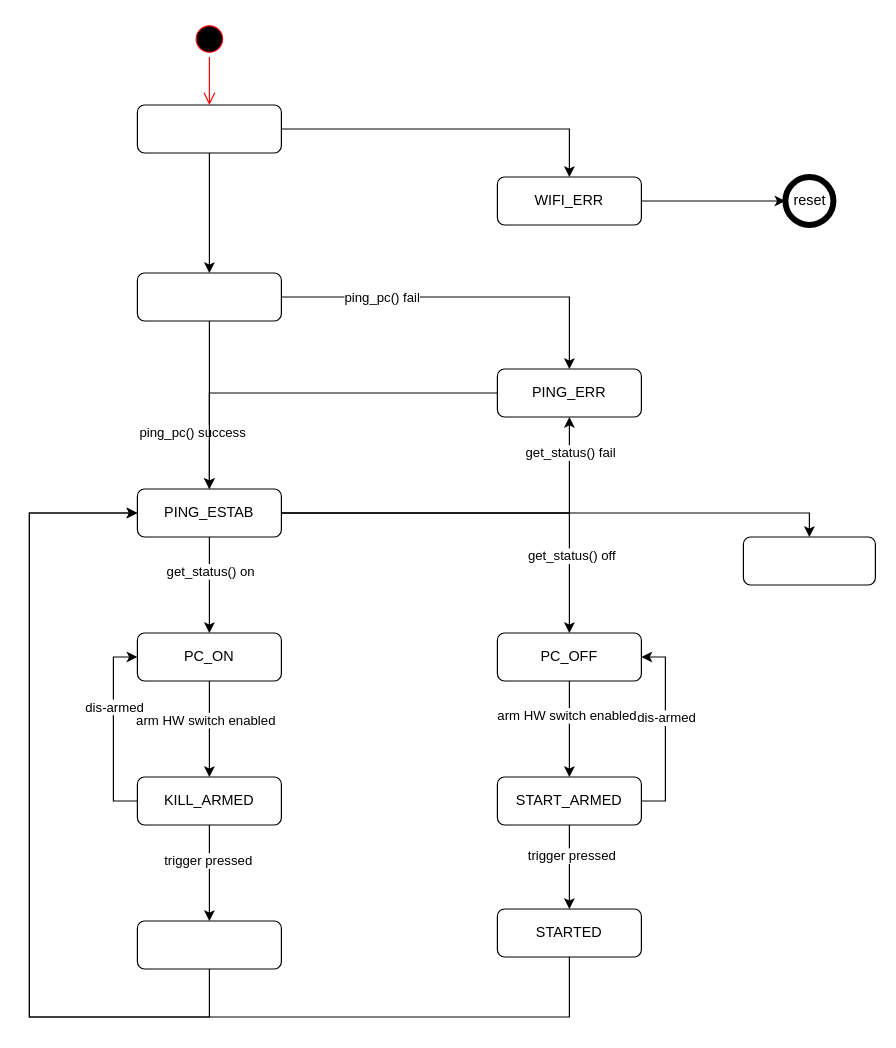
The diagram is 896 pixels wide and 1048 high, and some of its shapes have lost their labels. Here are the shapes that lost their labels. From the top down, the box of each, then its label:
(136, 104, 281, 153): INIT
(136, 272, 281, 321): WIFI_ESTAB
(742, 536, 875, 585): PC_ERR
(136, 920, 281, 969): KILLED
